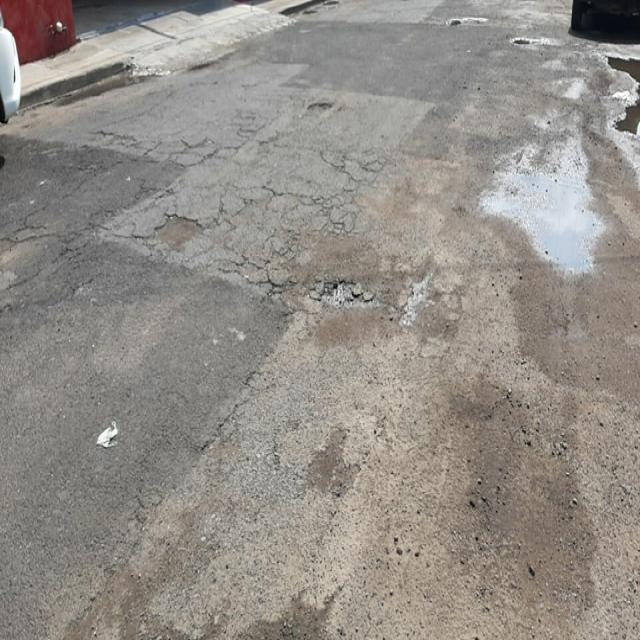Pothole: (294, 233, 439, 412), (150, 170, 230, 304), (308, 62, 363, 187)
